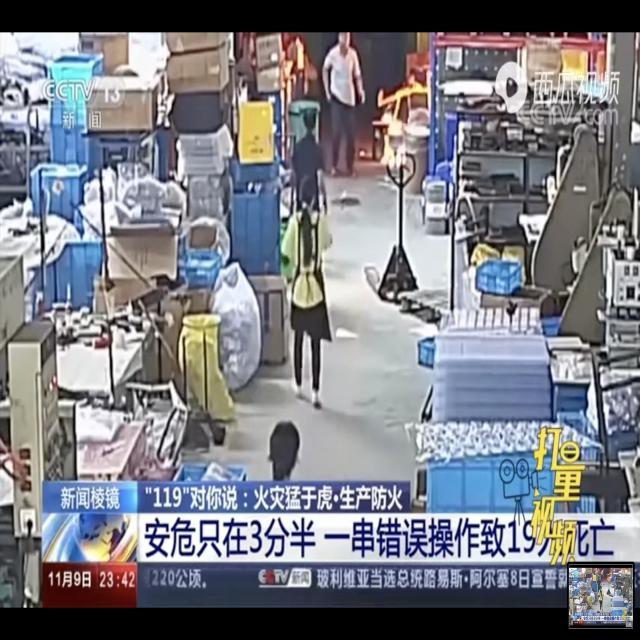Fogo: (368, 95, 418, 193)
